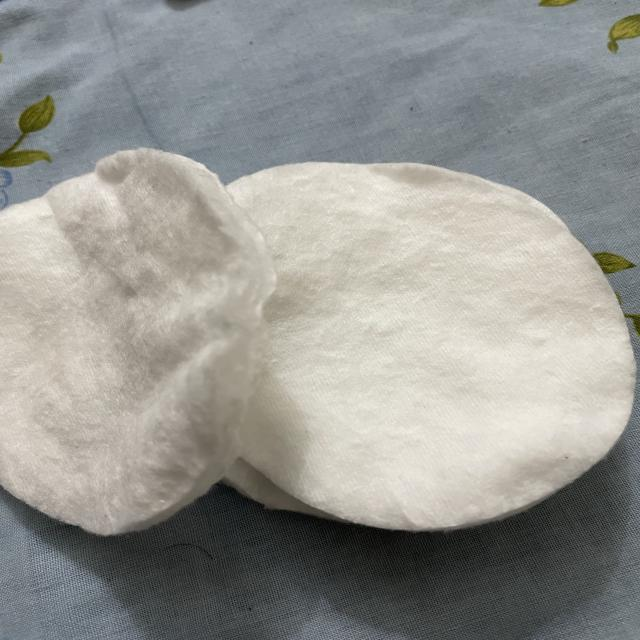nail polish remover: (0, 129, 640, 550)
